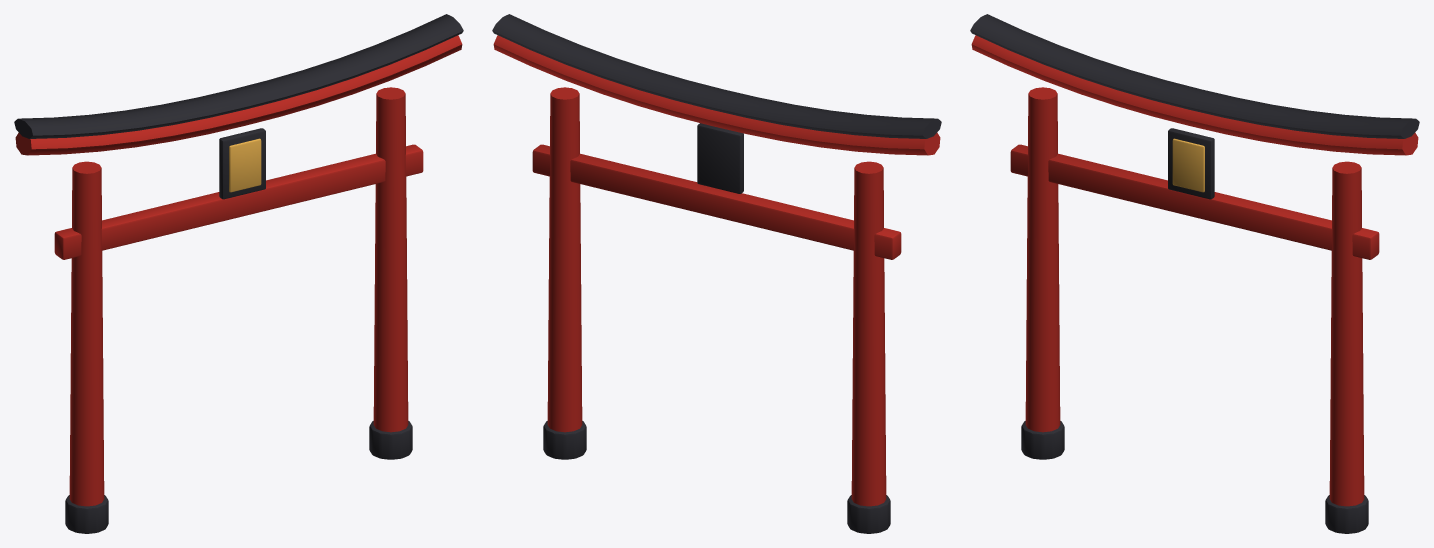
Rendered from torii.glb.
3 views of the same model, side by side, from view 1: azimuth 30°, elevation 25°; view 2: azimuth 150°, elevation 25°; view 3: azimuth 330°, elevation 25° (orthographic).
Visible parts, largest first — view 1: torii; view 2: torii; view 3: torii.
Boxes of the visible parts, x1=… form: torii: x1=14, y1=14, x2=463, y2=533; torii: x1=492, y1=14, x2=941, y2=533; torii: x1=970, y1=14, x2=1419, y2=533.
Bounding box in the file's own units: 6.87 × 6.33 × 0.5909.
